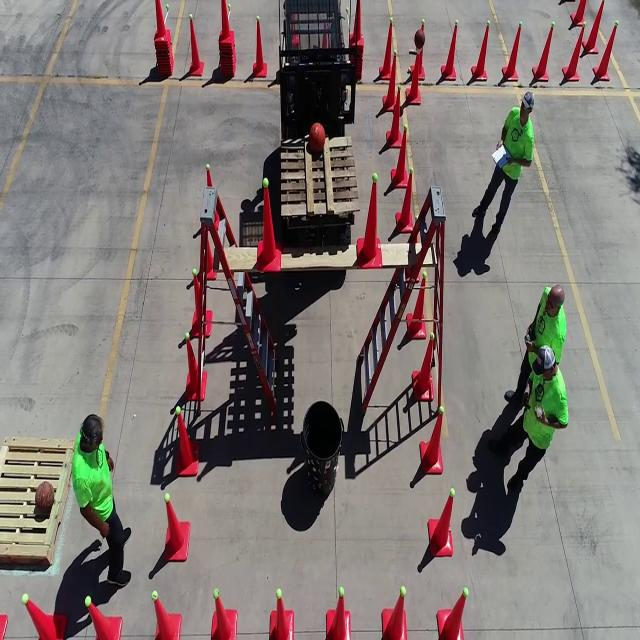Chariot elevateur: (266, 0, 358, 216)
